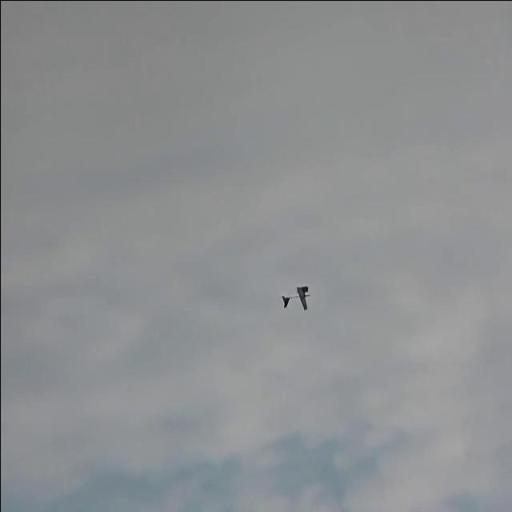uav: (281, 286, 310, 309)
